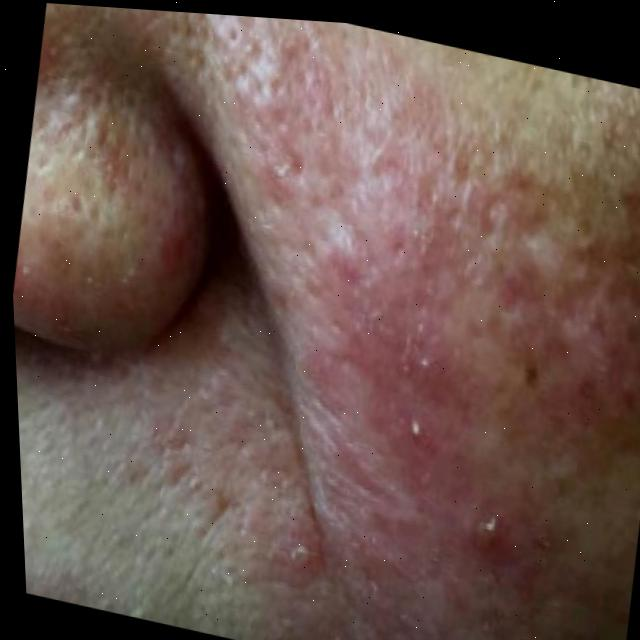Rosacea: (315, 96, 640, 640)
